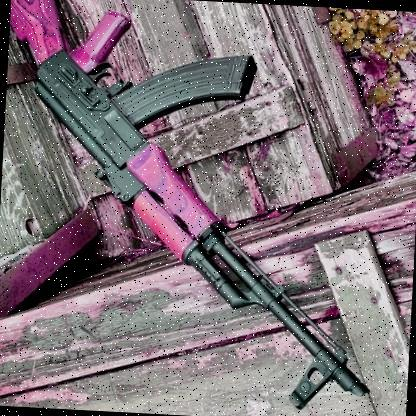rifle: (0, 0, 404, 403)
